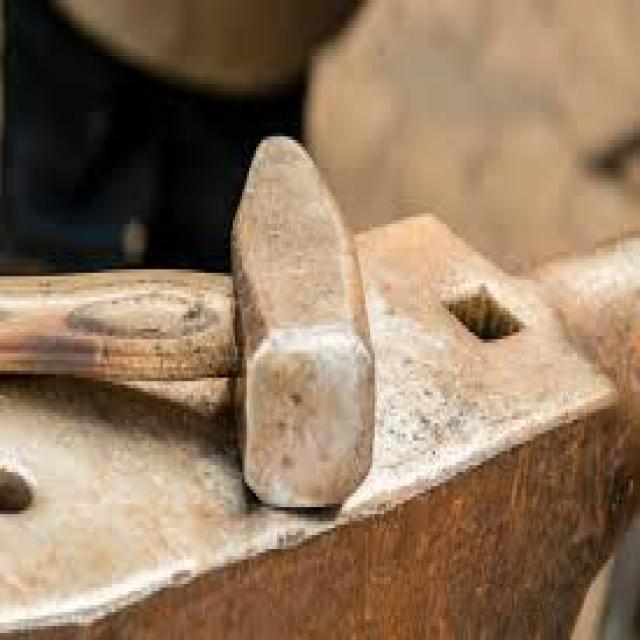hammer: (0, 128, 384, 520)
